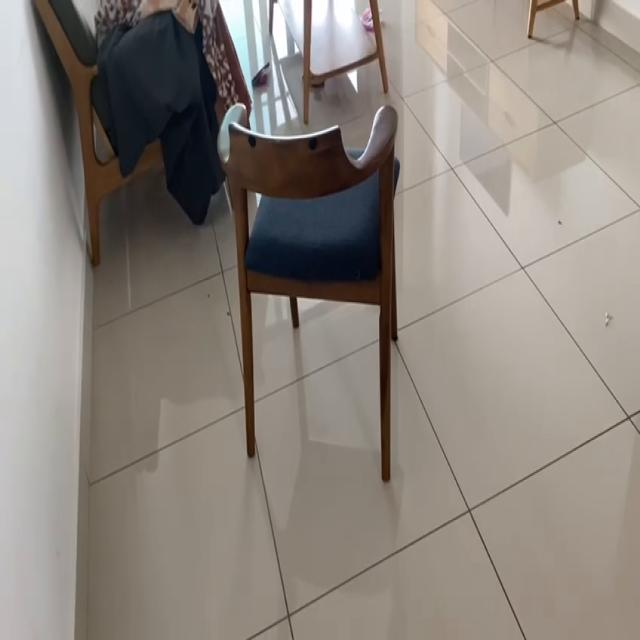Chair: (205, 101, 412, 489)
